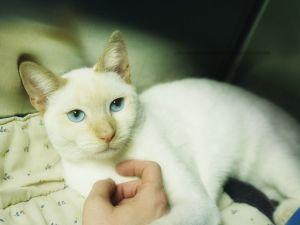siamese: (17, 29, 145, 169)
